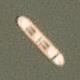ship: (0, 0, 30, 32)
